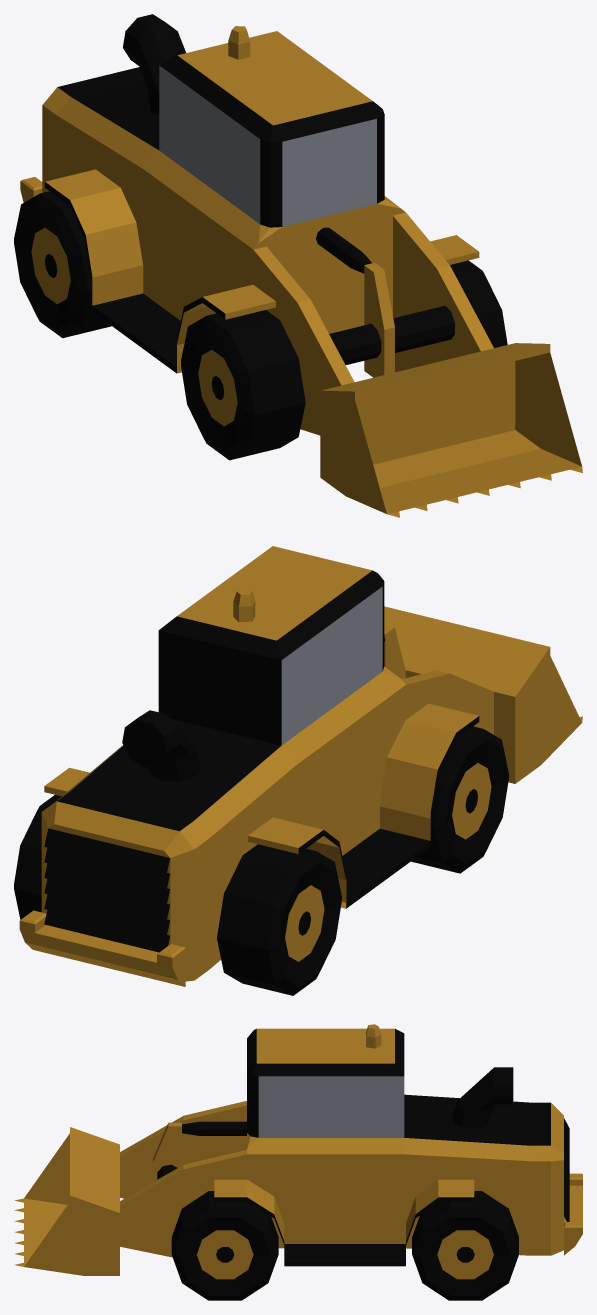
The model's file is cat 966l wheel loader.glb.
3 views of the same model, one above another, from view 1: azimuth 30°, elevation 25°; view 2: azimuth 150°, elevation 25°; view 3: azimuth 270°, elevation 25° (orthographic). The views are drawn at different scales.
Visible parts, largest first — view 1: Wheel loader; view 2: Wheel loader; view 3: Wheel loader.
Boxes of the visible parts, box(x1,y1,x2,y2) form: Wheel loader: box(14, 14, 582, 517); Wheel loader: box(14, 546, 582, 995); Wheel loader: box(14, 1024, 582, 1300).
Bounding box in the file's own units: 3.45 × 3.98 × 8.96.
